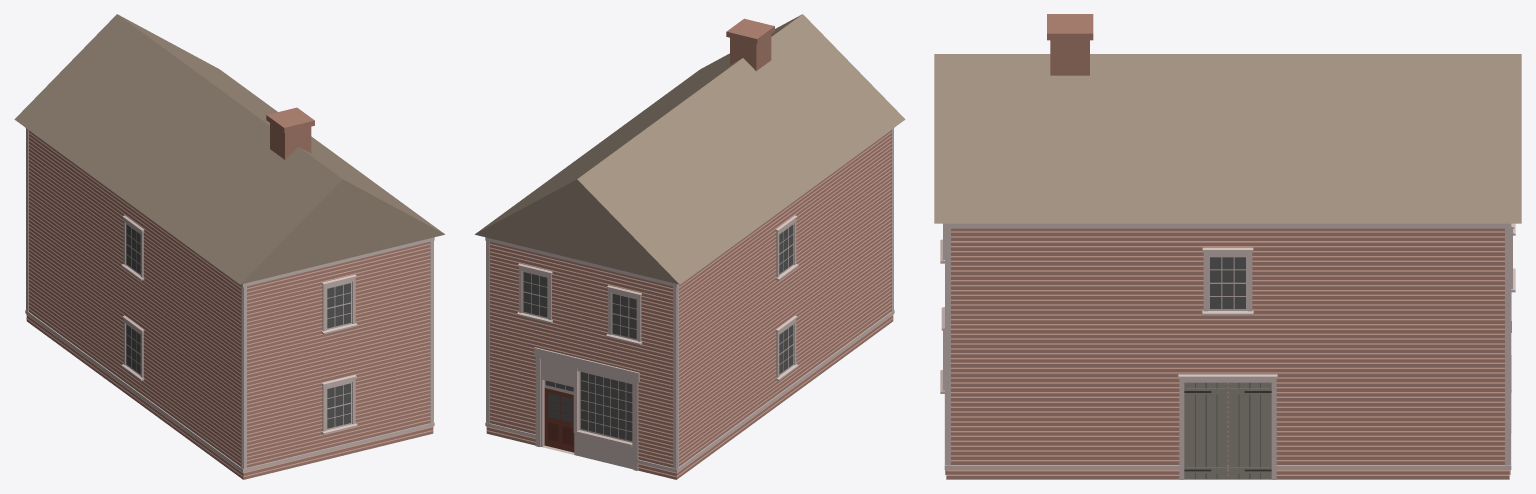
The model's file is recon_1835_core_c3_024__inferred_1835.glb.
3 renders of one model, left to right at view 1: azimuth 30°, elevation 25°; view 2: azimuth 150°, elevation 25°; view 3: azimuth 270°, elevation 25°, orthographic. The views are drawn at different scales.
Parts seen in each view (by area): view 1: recon_1835_core_c3_024__inferred_1835; view 2: recon_1835_core_c3_024__inferred_1835; view 3: recon_1835_core_c3_024__inferred_1835.
Boxes of the visible parts, x1,y1,x2,y2 form: recon_1835_core_c3_024__inferred_1835: (14, 14, 444, 479); recon_1835_core_c3_024__inferred_1835: (475, 14, 905, 479); recon_1835_core_c3_024__inferred_1835: (934, 14, 1521, 479).
Bounding box in the file's own units: 6.55 × 9.27 × 12.47.
